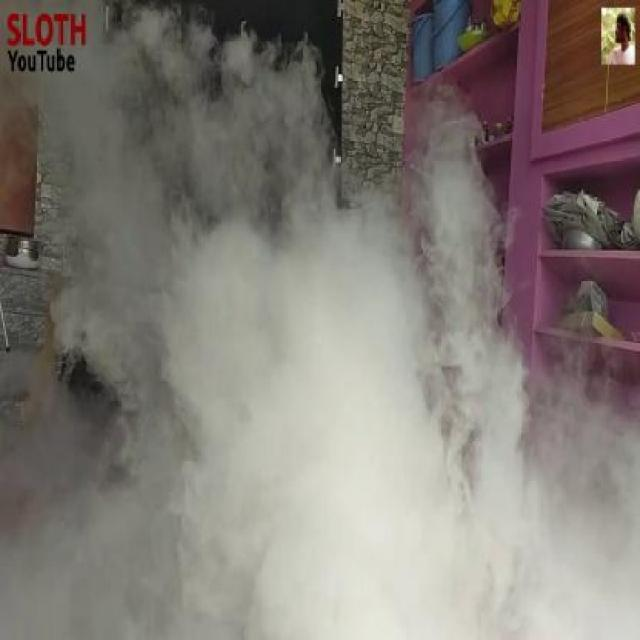smoke: (46, 86, 528, 640), (351, 317, 640, 640)
